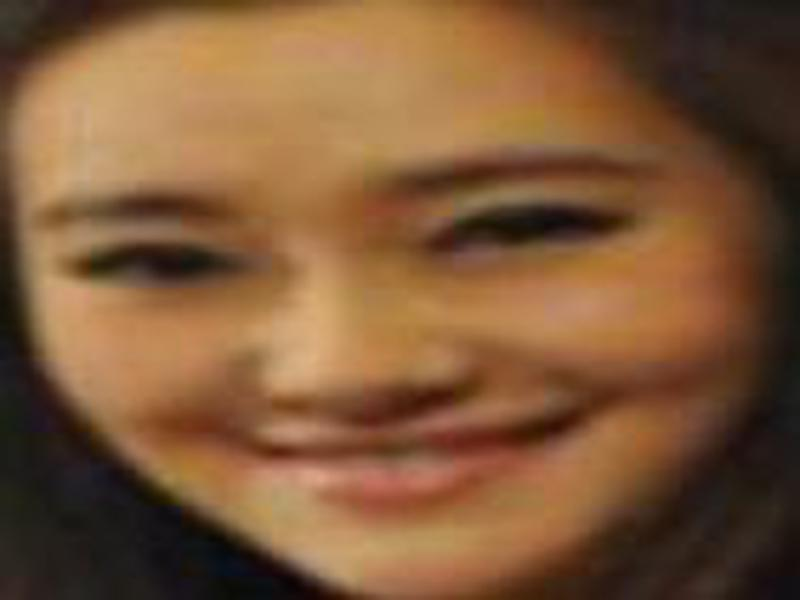without_mask: (21, 44, 744, 580)
